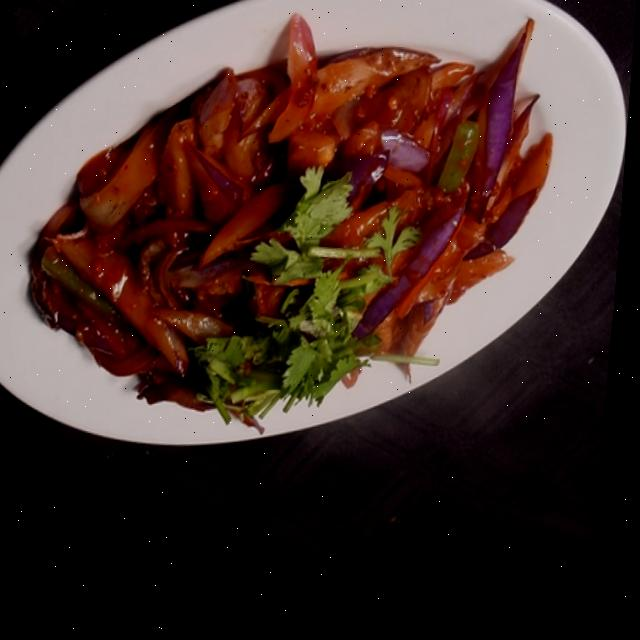鸡蛋料理: (0, 0, 606, 468)
